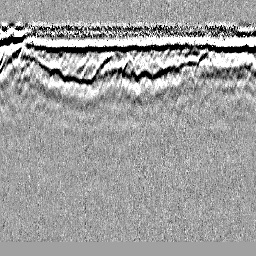cavity: (120, 54, 139, 80)
